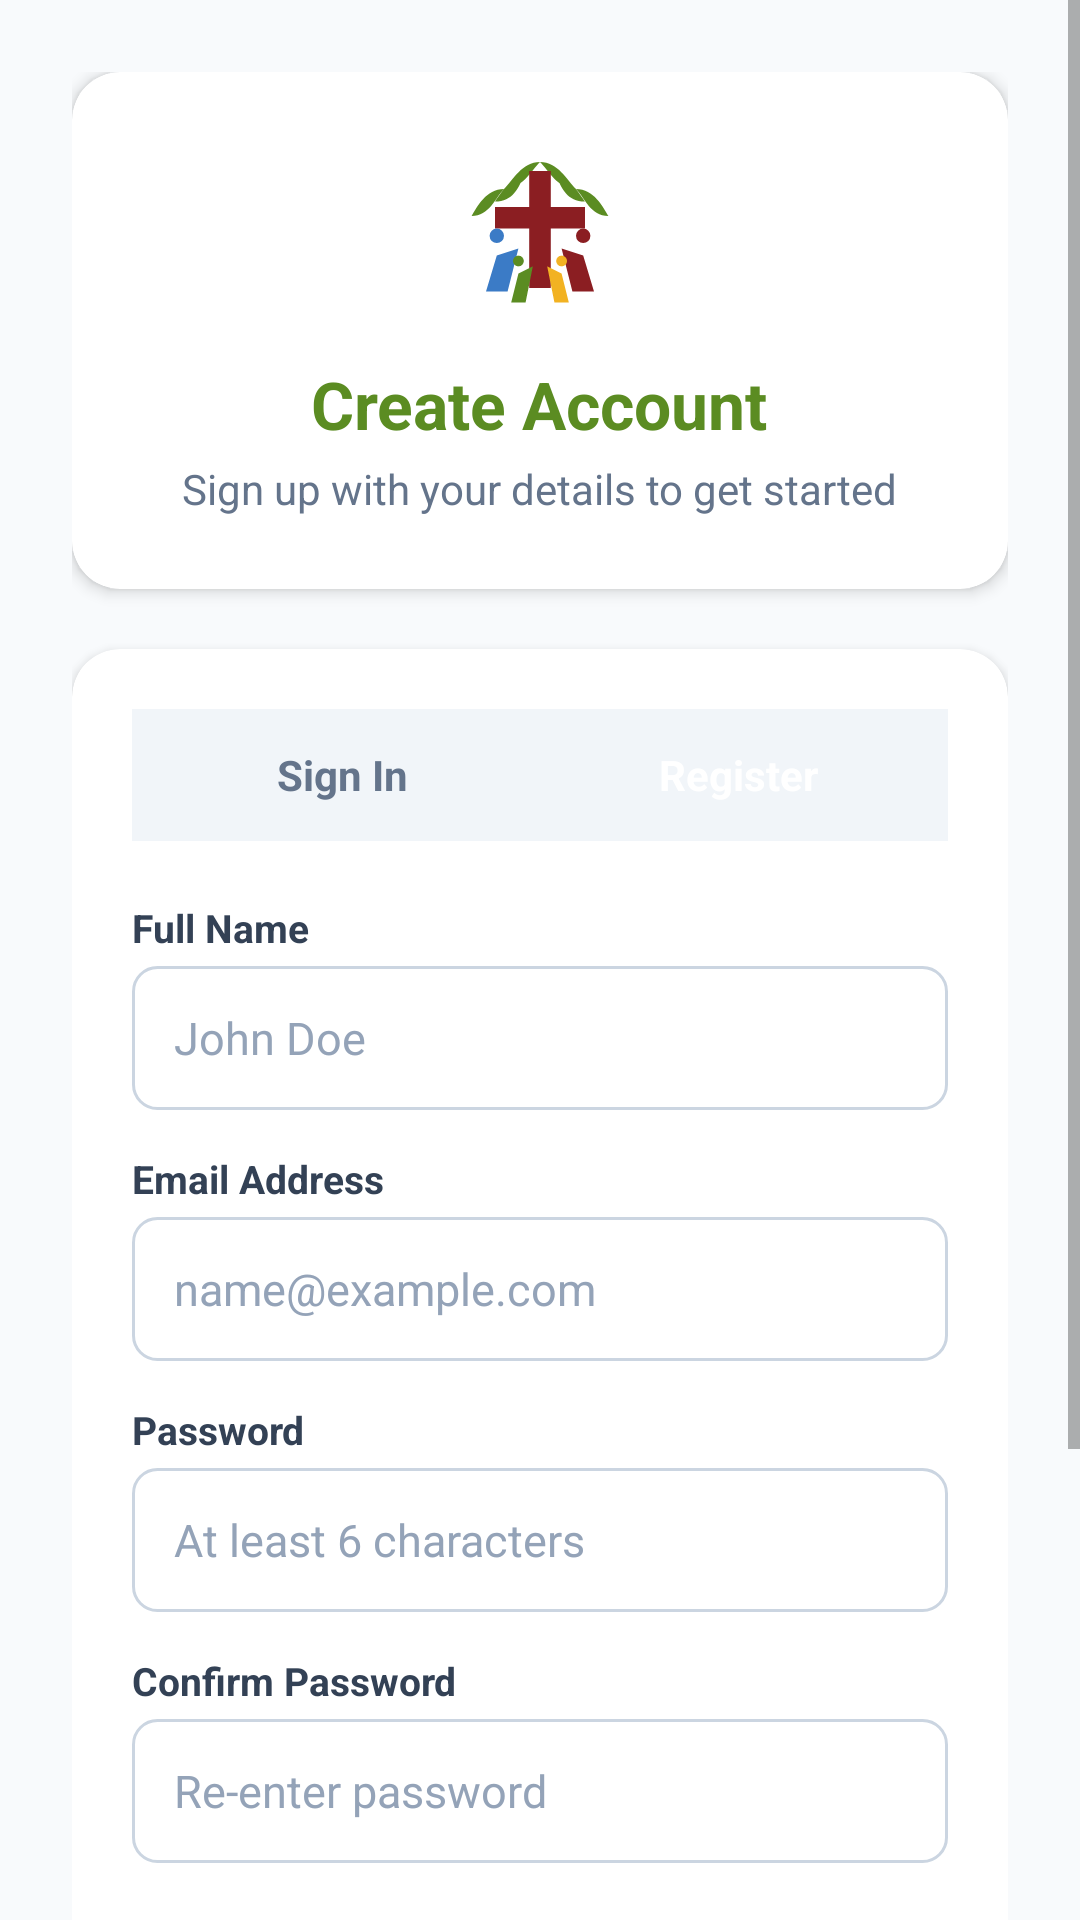

Screen size 1080px×1920px. Icon name, then its center in pixels as [x,y]:
community cross: [539,232]
